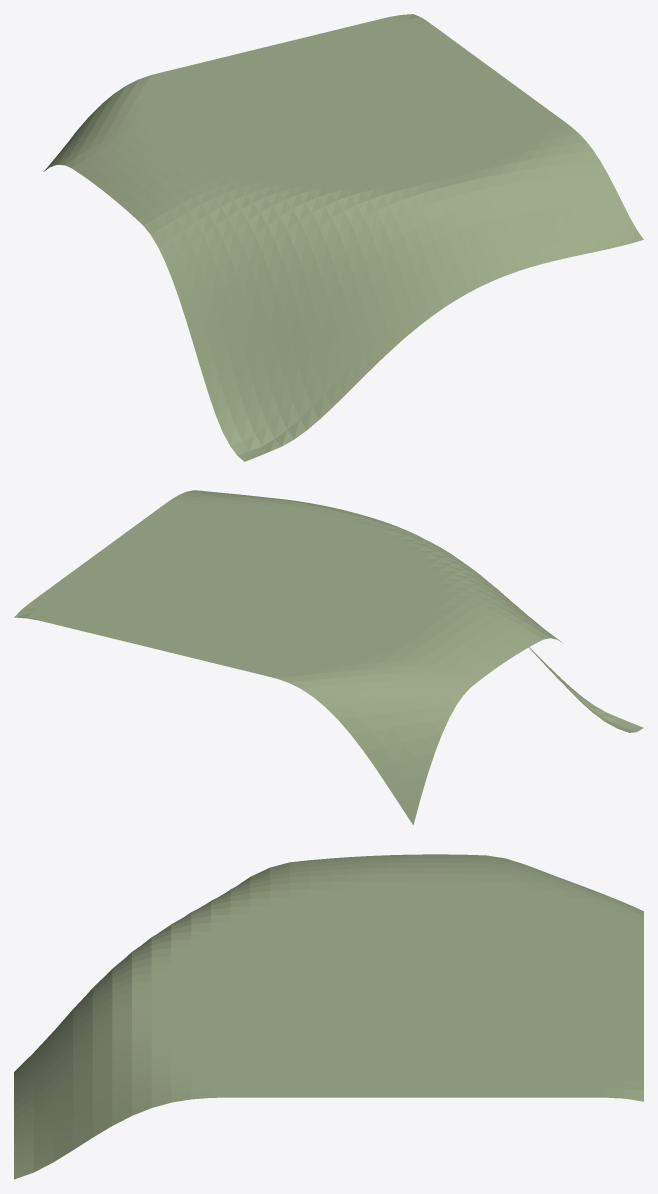
File: alpine-6-2.glb
The picture shows the model from 3 angles, top to bottom: view 1: azimuth 30°, elevation 25°; view 2: azimuth 150°, elevation 25°; view 3: azimuth 270°, elevation 25°; orthographic projection. The views are drawn at different scales.
Parts seen in each view (by area): view 1: alpine-6-2; view 2: alpine-6-2; view 3: alpine-6-2.
Boxes of the visible parts, x1,y1,x2,y2 form: alpine-6-2: (43,14,643,461); alpine-6-2: (14,490,643,825); alpine-6-2: (14,854,643,1179).
Bounding box in the file's own units: 256 × 113 × 256.
